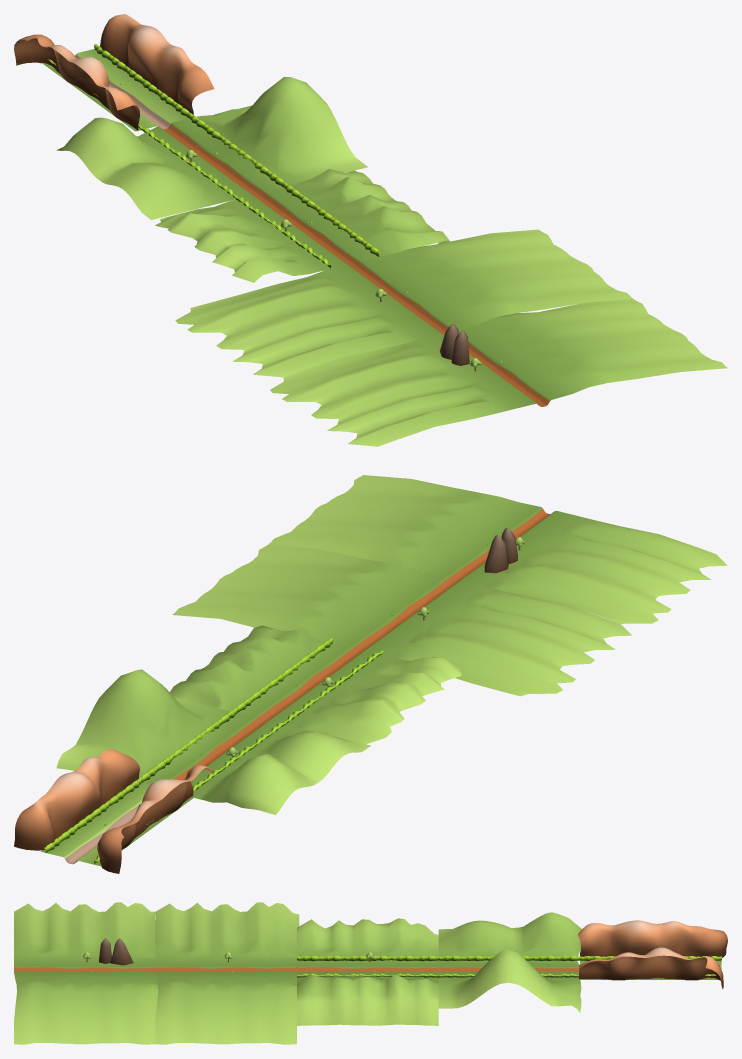
Rendered from proxy_level.fbx.
3 views of the same model, one above another, from view 1: azimuth 30°, elevation 25°; view 2: azimuth 150°, elevation 25°; view 3: azimuth 270°, elevation 25° (orthographic). The views are drawn at different scales.
Visible parts, largest first — view 1: river_01 (×5), rock_02, rock_01, grass_wall (×3); view 2: river_01 (×5), rock_02, rock_01, grass_wall (×3), rock_03; view 3: river_01 (×4), rock_01 (×2), rock_02, grass_wall (×2), rock_03.
Boxes of the visible parts, x1,y1,x2,y2 form: river_01 (×5): (41,49,727,446); rock_02: (100,14,214,114); rock_01: (14,34,139,130); grass_wall (×3): (47,44,380,268); river_01 (×5): (41,475,727,866); rock_02: (14,749,139,850); rock_01: (97,765,214,873); grass_wall (×3): (44,638,383,863); rock_03: (484,535,508,573); river_01 (×4): (14,902,581,1044); rock_01 (×2): (99,920,727,963); rock_02: (579,947,723,989); grass_wall (×2): (297,956,580,977); rock_03: (110,938,133,965).
Bounding box in the file's own units: 48007 × 10620 × 105769.
Materials: 1 (1 with a texture image).
